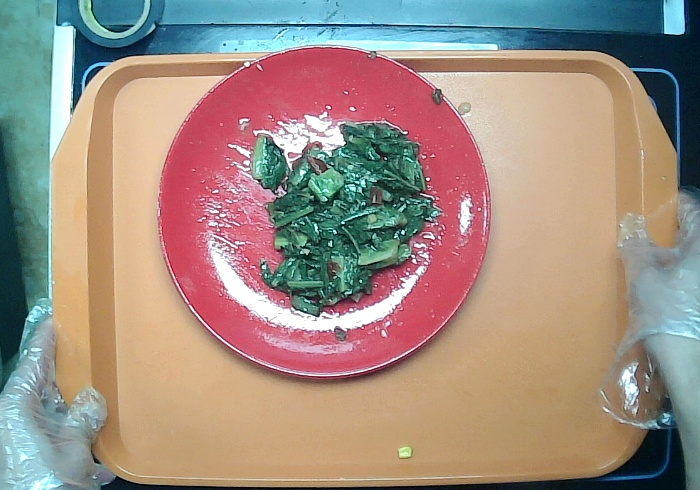HZYJPL-Hong_Se_Yuan_Pan: (152, 40, 496, 385)
